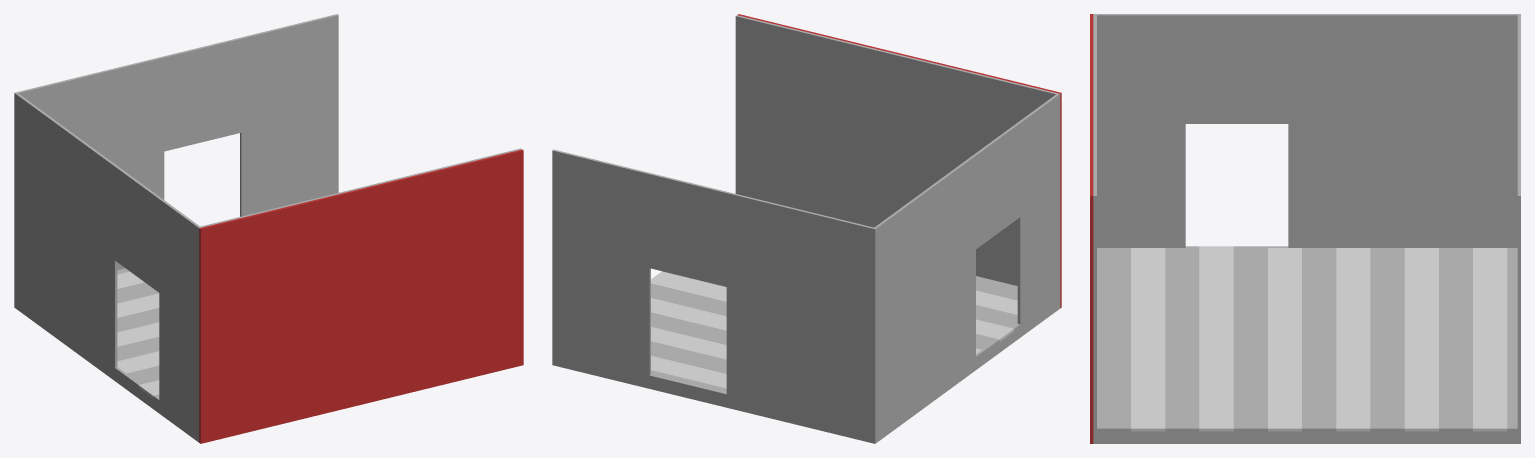
File: 4x2 first-5.obj
The picture shows the model from 3 angles, left to right: view 1: azimuth 30°, elevation 25°; view 2: azimuth 150°, elevation 25°; view 3: azimuth 270°, elevation 25°; orthographic projection. The views are drawn at different scales.
Visible parts, largest first — view 1: 4x2 first-5; view 2: 4x2 first-5; view 3: 4x2 first-5.
Boxes of the visible parts, bbox=[...] form: 4x2 first-5: bbox=[14, 14, 523, 443]; 4x2 first-5: bbox=[552, 14, 1061, 443]; 4x2 first-5: bbox=[1090, 14, 1520, 443].
Size of the model in its own units: 126 by 80 by 126.
1 material, 1 textured.
